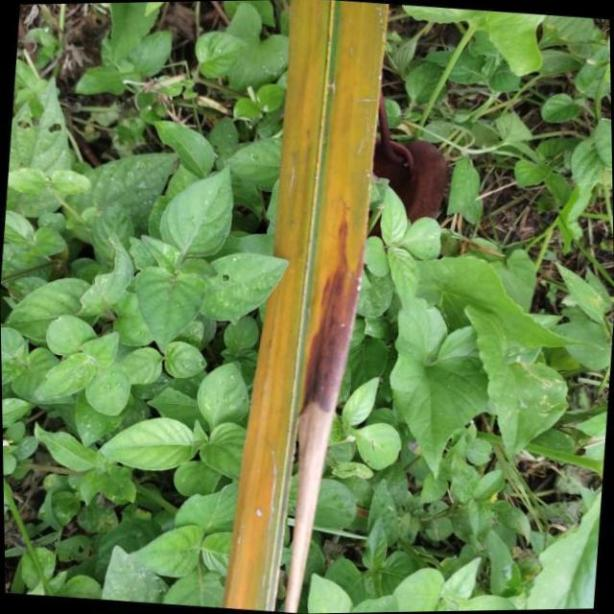Megnesium: (220, 0, 388, 614)
